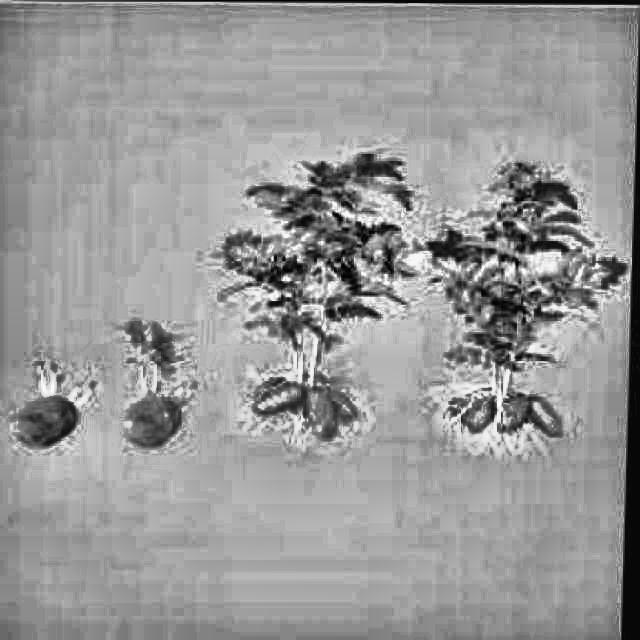plants: (207, 137, 438, 400), (420, 146, 634, 397), (113, 306, 212, 402)
